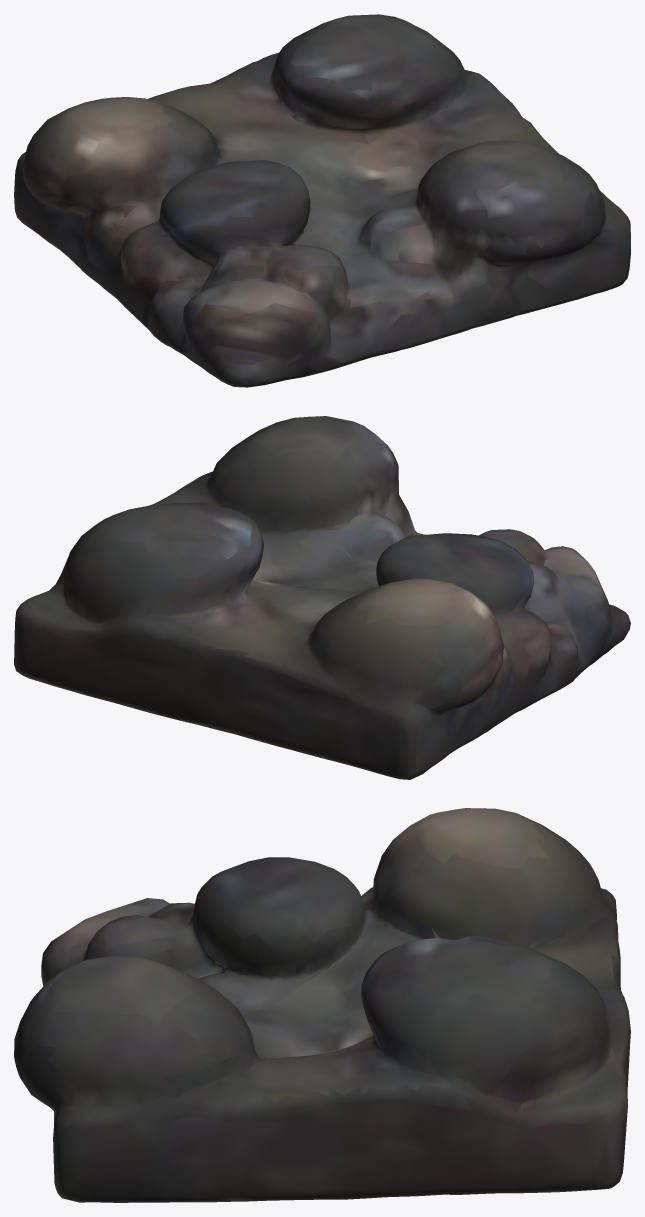
Rendered from m18_pedras_escuras.glb.
The picture shows the model from 3 angles, top to bottom: view 1: azimuth 30°, elevation 25°; view 2: azimuth 150°, elevation 25°; view 3: azimuth 270°, elevation 25°; orthographic projection. The views are drawn at different scales.
Visible parts, largest first — view 1: m18_pedras_escuras; view 2: m18_pedras_escuras; view 3: m18_pedras_escuras.
Boxes of the visible parts, x1,y1,x2,y2 form: m18_pedras_escuras: (14, 14, 630, 387); m18_pedras_escuras: (14, 416, 630, 779); m18_pedras_escuras: (14, 808, 630, 1202).
Bounding box in the file's own units: 1 × 0.3665 × 0.9992.
Materials: 1 (1 with a texture image).
